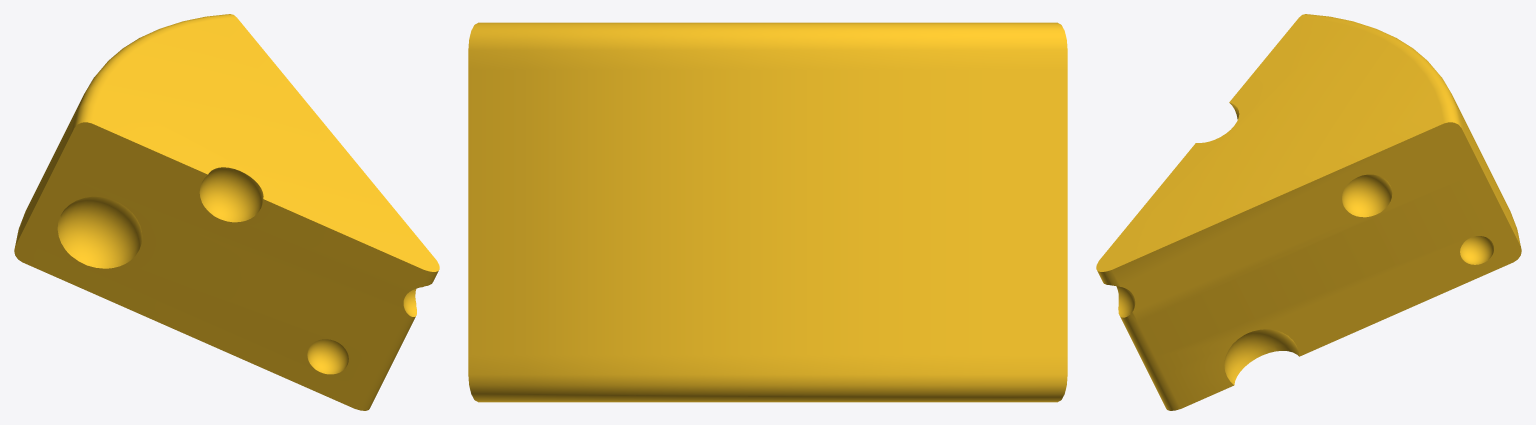
Rendered from cheese_wedge.glb.
3 views of the same model, side by side, from view 1: azimuth 30°, elevation 25°; view 2: azimuth 150°, elevation 25°; view 3: azimuth 270°, elevation 25° (orthographic). The views are drawn at different scales.
Visible parts, largest first — view 1: Circle.2204; view 2: Circle.2204; view 3: Circle.2204.
Boxes of the visible parts, x1,y1,x2,y2 form: Circle.2204: [14, 14, 439, 410]; Circle.2204: [468, 22, 1067, 402]; Circle.2204: [1096, 14, 1521, 410].
Size of the model in its own units: 2 by 1.99 by 2.52.
Materials: 1 (1 with a texture image).
